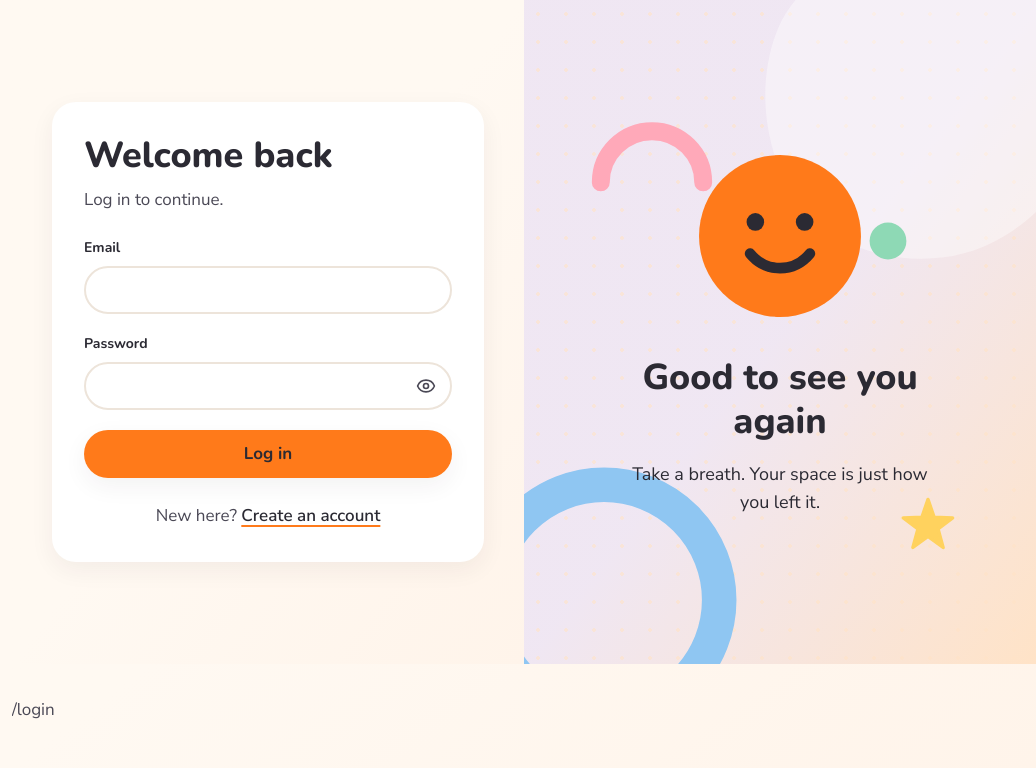
Test: Login form › shows the server's message and stays on the page when the password is wrong
Type "asha@college.edu" into the field labelled "Email".
click(268, 290); type("asha@college.edu")  # box [84,266,452,314]
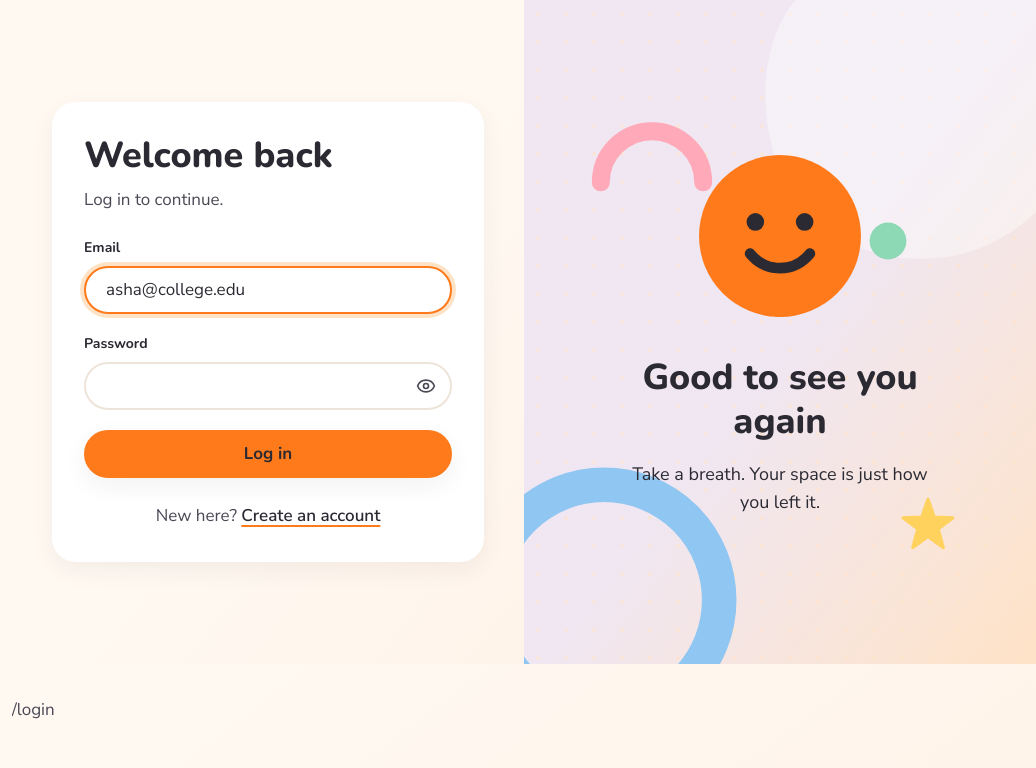
Type "wrong-password" into the password field labelled "Password".
click(268, 386); type("wrong-password")  # box [84,362,452,410]
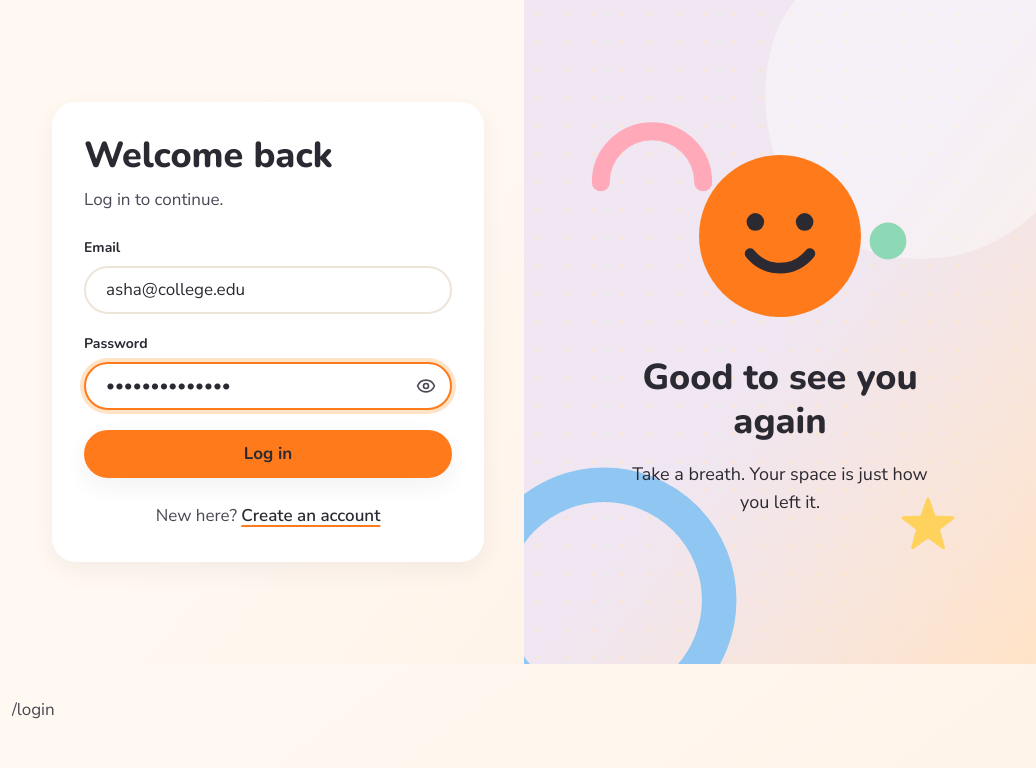
Click the button "Log in".
click(268, 454)  # box [84,430,452,478]
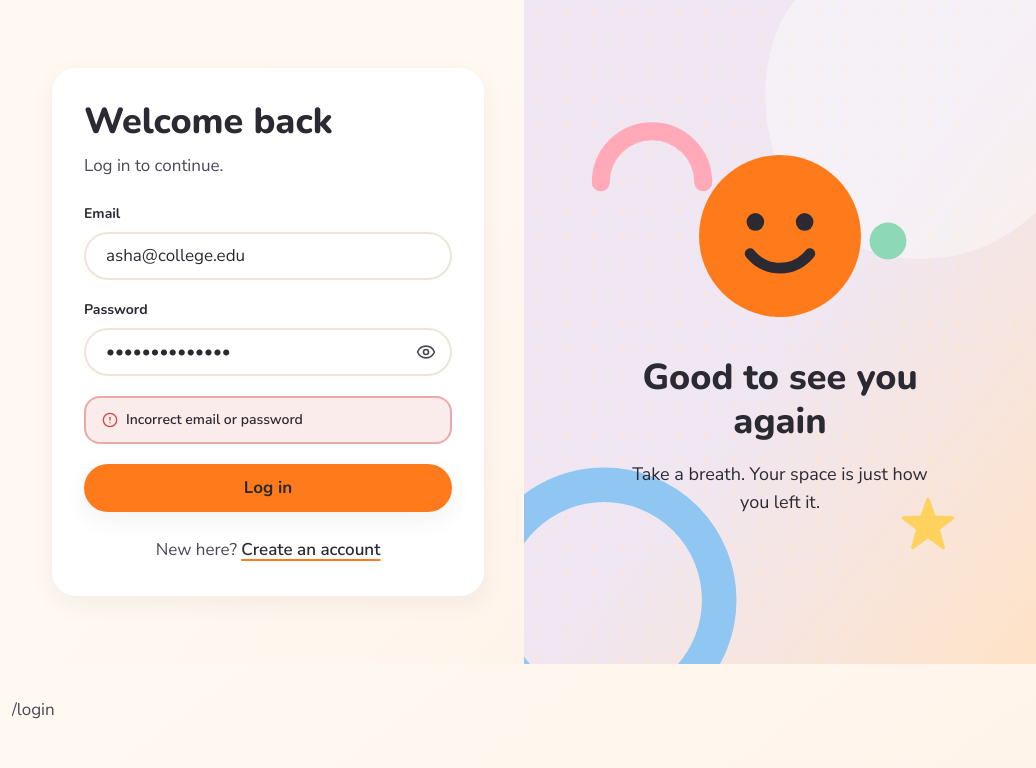
Check: the text with test id "location" reads "/login", box [12,698,55,721]
Check: the message reads "Incorrect email or password", box [126,410,303,429]
